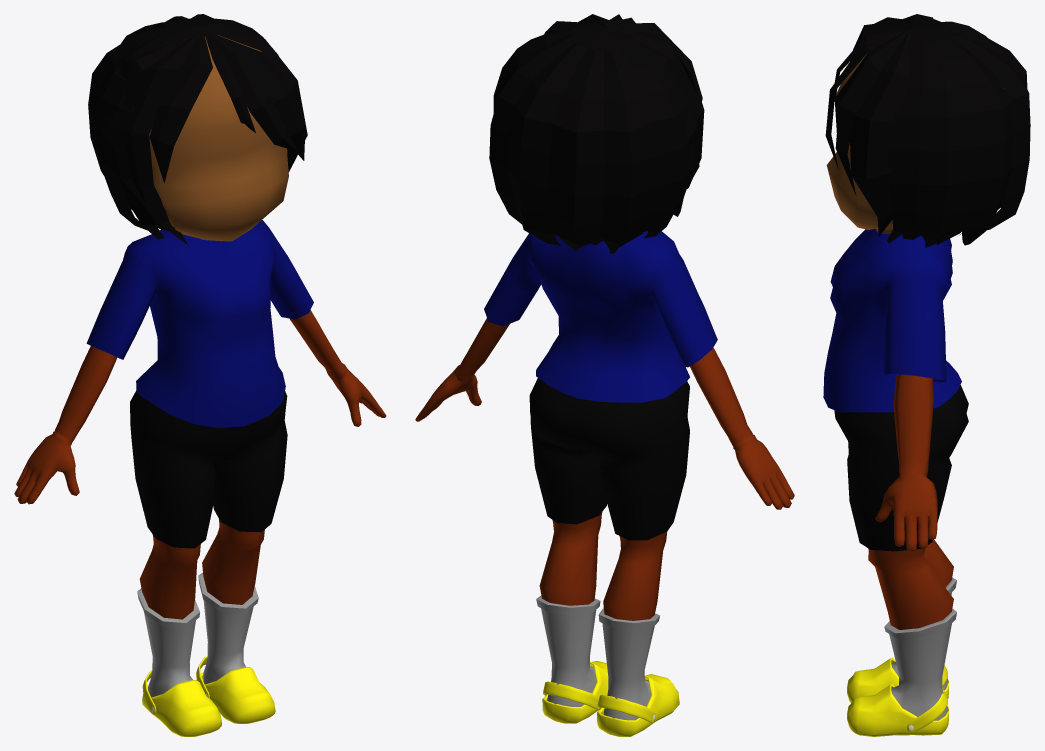
The model's file is moza2.FBX.
3 views of the same model, side by side, from view 1: azimuth 30°, elevation 25°; view 2: azimuth 150°, elevation 25°; view 3: azimuth 270°, elevation 25° (orthographic).
Parts seen in each view (by area): view 1: Group005, pelo, head; view 2: Group005, pelo; view 3: Group005, pelo, head.
Part boxes in pixels (x1,y1,x2,y2): Group005: (14, 220, 386, 736); pelo: (88, 14, 307, 245); head: (149, 35, 288, 241); Group005: (415, 230, 794, 736); pelo: (489, 14, 704, 253); Group005: (823, 228, 968, 736); pelo: (825, 14, 1030, 247); head: (826, 53, 1004, 233).
Size of the model in its own units: 61.49 by 110 by 29.96.
